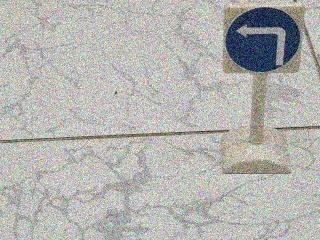left: (220, 3, 307, 77)
